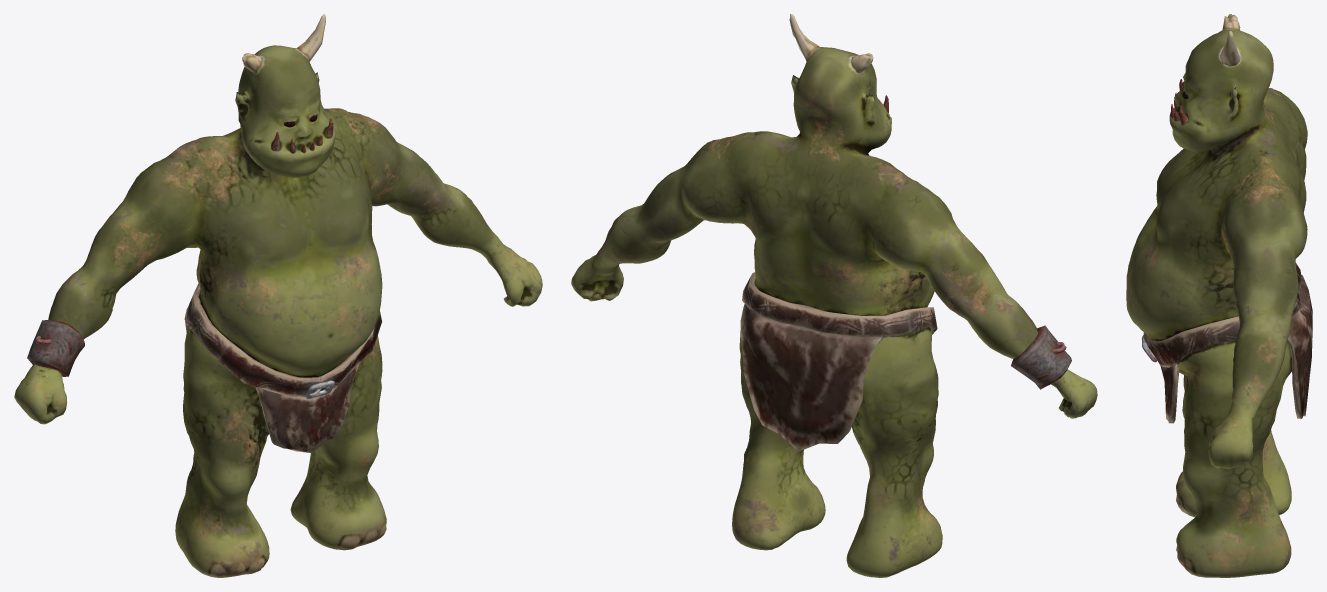
The picture shows the model from 3 angles, left to right: view 1: azimuth 30°, elevation 25°; view 2: azimuth 150°, elevation 25°; view 3: azimuth 270°, elevation 25°; orthographic projection.
Visible parts, largest first — view 1: orc_body_low.001; view 2: orc_body_low.001, loin_cloth_back_low.001; view 3: orc_body_low.001, loin_cloth_back_low.001.
Part boxes in pixels (bbox=[...]): orc_body_low.001: bbox=[14, 14, 542, 577]; orc_body_low.001: bbox=[571, 14, 1097, 577]; loin_cloth_back_low.001: bbox=[740, 304, 883, 451]; orc_body_low.001: bbox=[1126, 14, 1307, 577]; loin_cloth_back_low.001: bbox=[1287, 274, 1312, 418].
Bounding box in the file's own units: 1.56 × 1.51 × 0.4801.
Materials: 4 (4 with a texture image).
